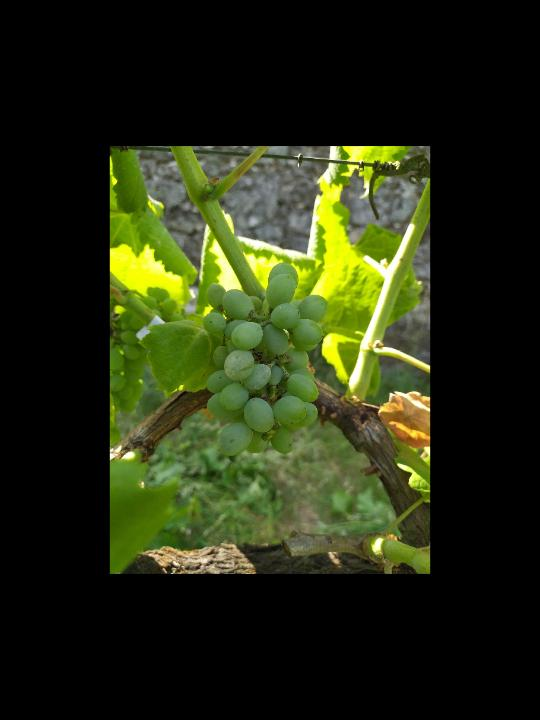grape: (202, 260, 331, 458)
